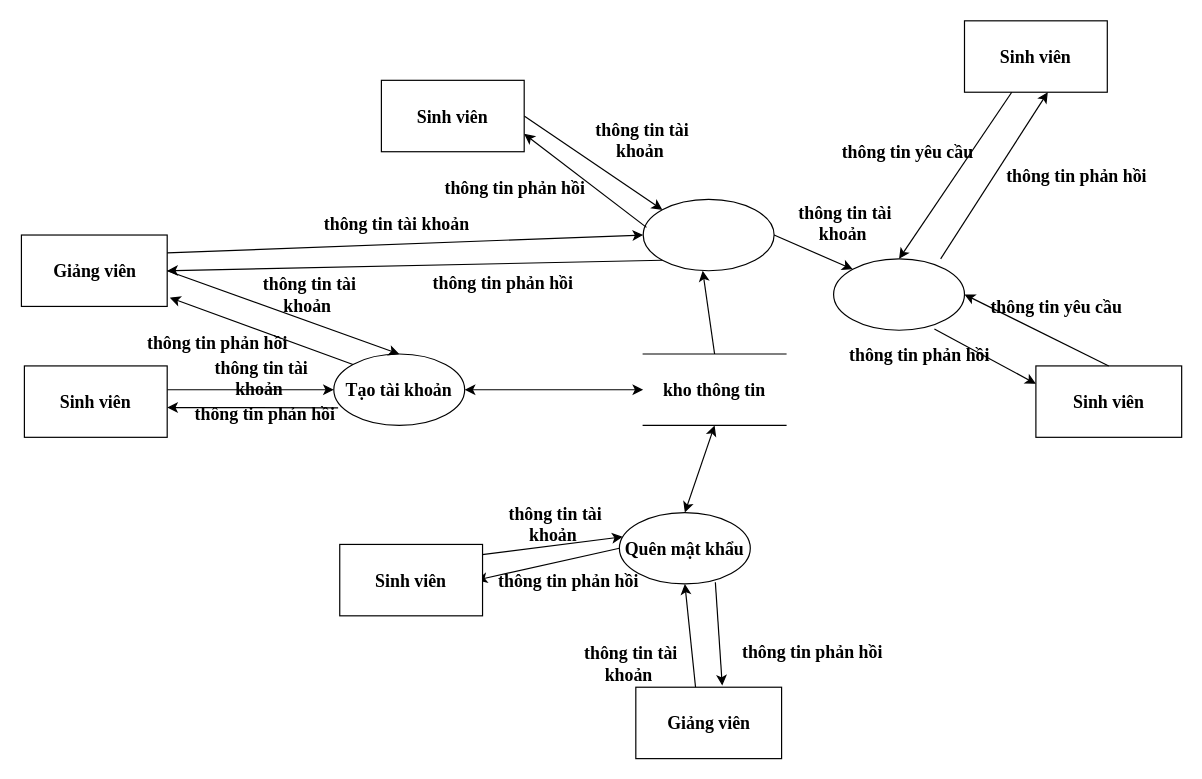
This 1202x779 diagram has some shape labels left out. The shapes that lost their labels are listed below. From the top down, each one's centre as x and y in pixels, then its label:
the point at 708,234: Đăng nhập
the point at 898,294: Đăng xuất
